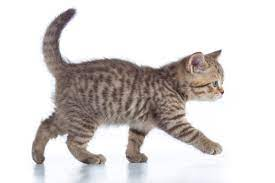cat: (31, 7, 225, 165)
